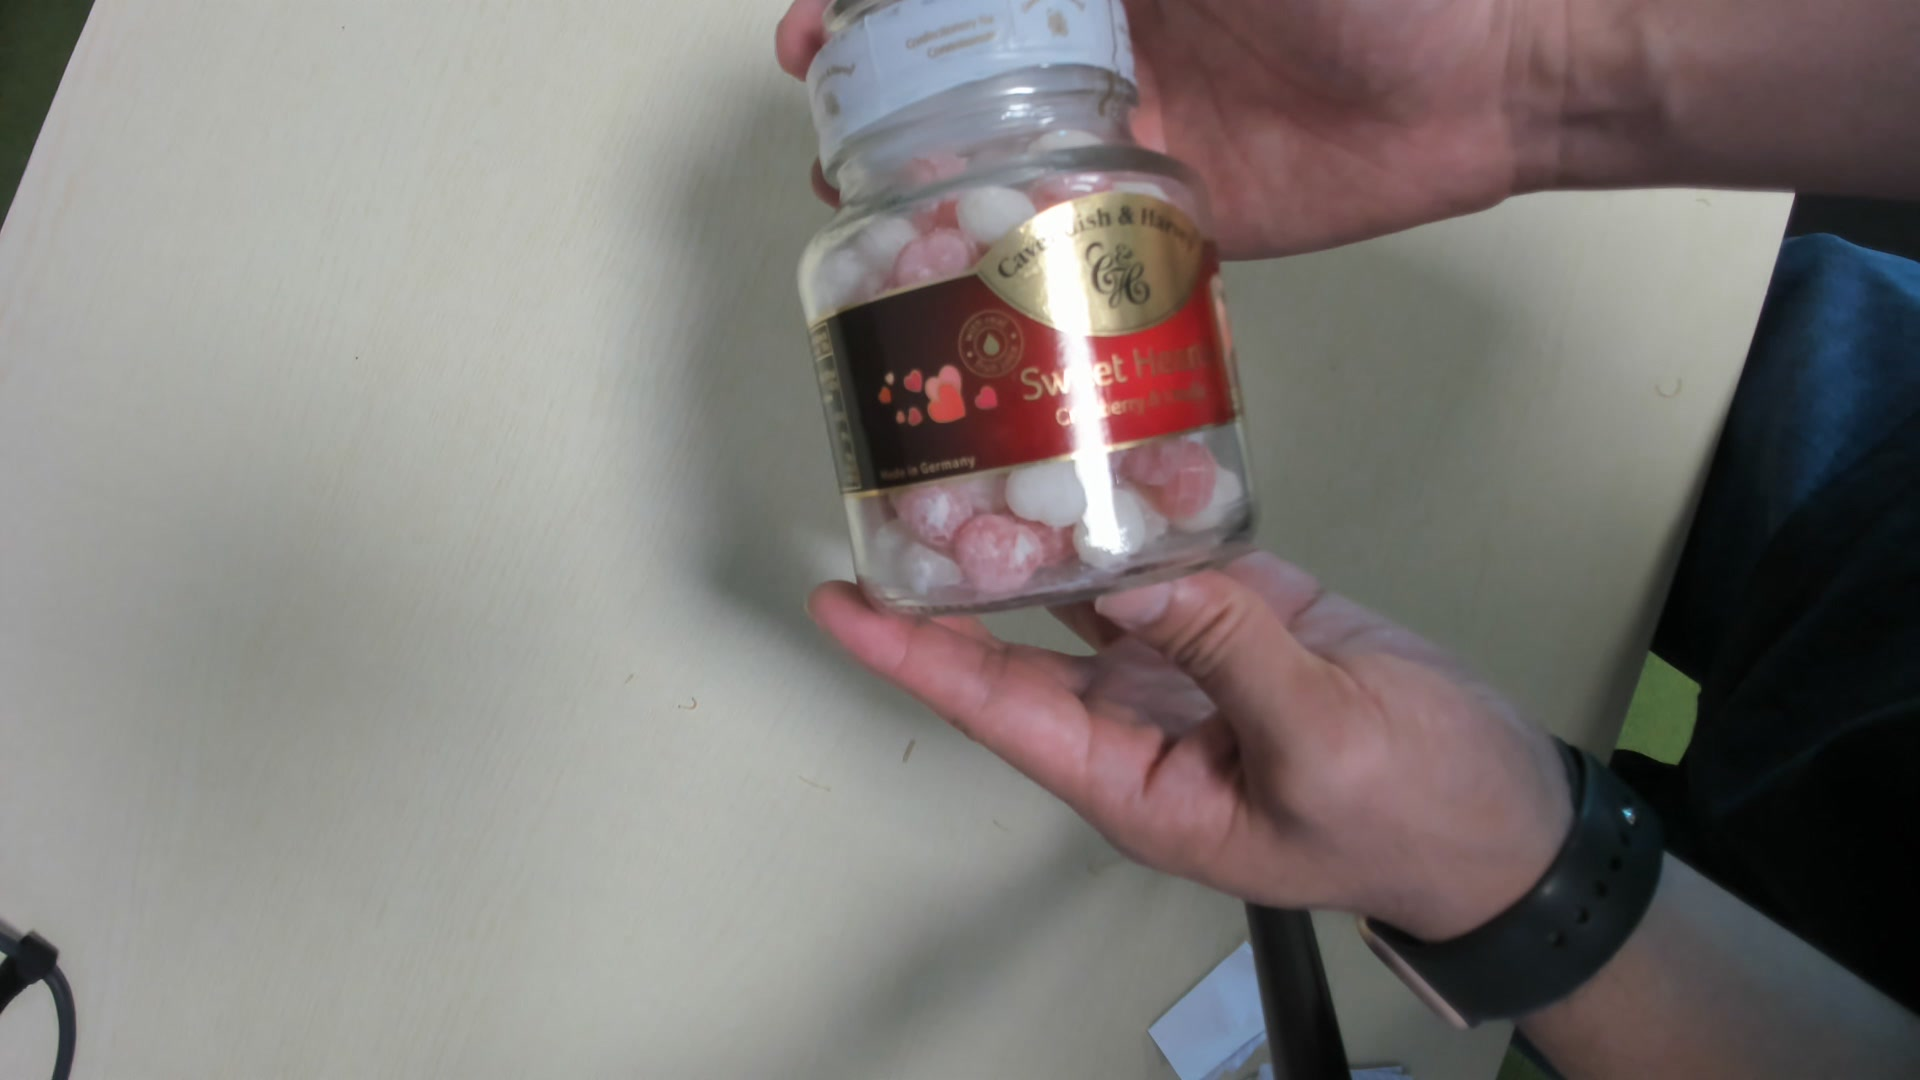SweetsChocolatesOthers_300-399g_NonHalal_Nonhealthy: (794, 15, 1262, 616)
